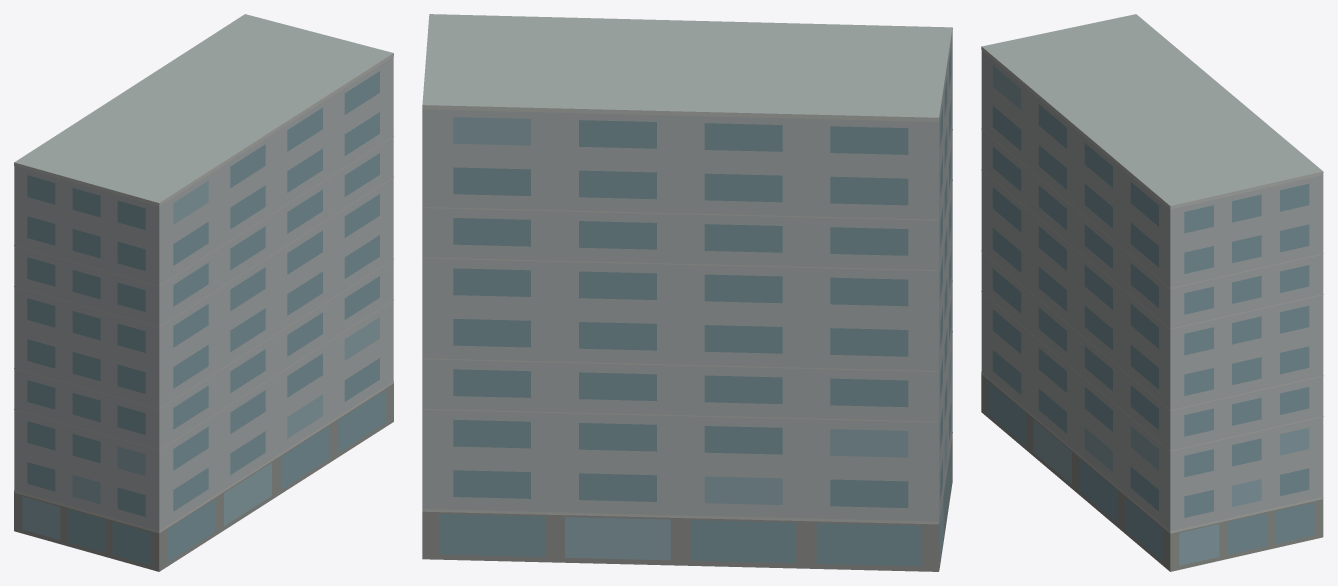
Rendered from survey-upis-32706720.glb.
3 renders of one model, left to right at view 1: azimuth 30°, elevation 25°; view 2: azimuth 150°, elevation 25°; view 3: azimuth 270°, elevation 25°, orthographic. The views are drawn at different scales.
Parts seen in each view (by area): view 1: survey-upis-32706720.tmp; view 2: survey-upis-32706720.tmp; view 3: survey-upis-32706720.tmp.
Part boxes in pixels (x1,y1,x2,y2): survey-upis-32706720.tmp: (14, 14, 393, 571); survey-upis-32706720.tmp: (422, 14, 952, 571); survey-upis-32706720.tmp: (981, 14, 1323, 571).
Bounding box in the file's own units: 28.51 × 25.3 × 21.45.
